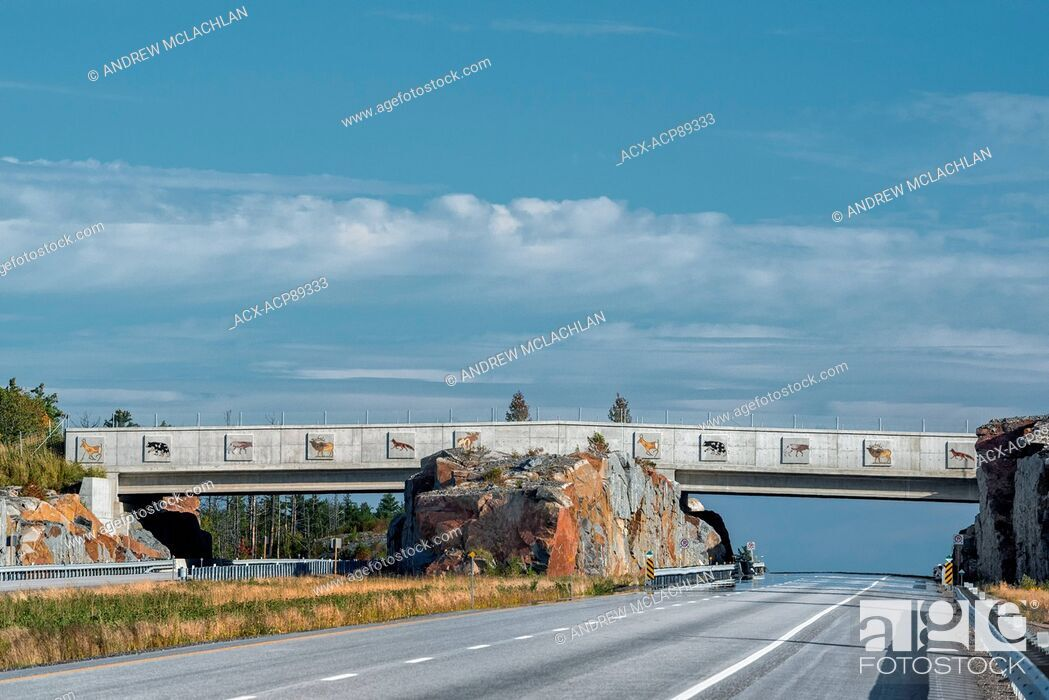bridge: (66, 420, 981, 508)
